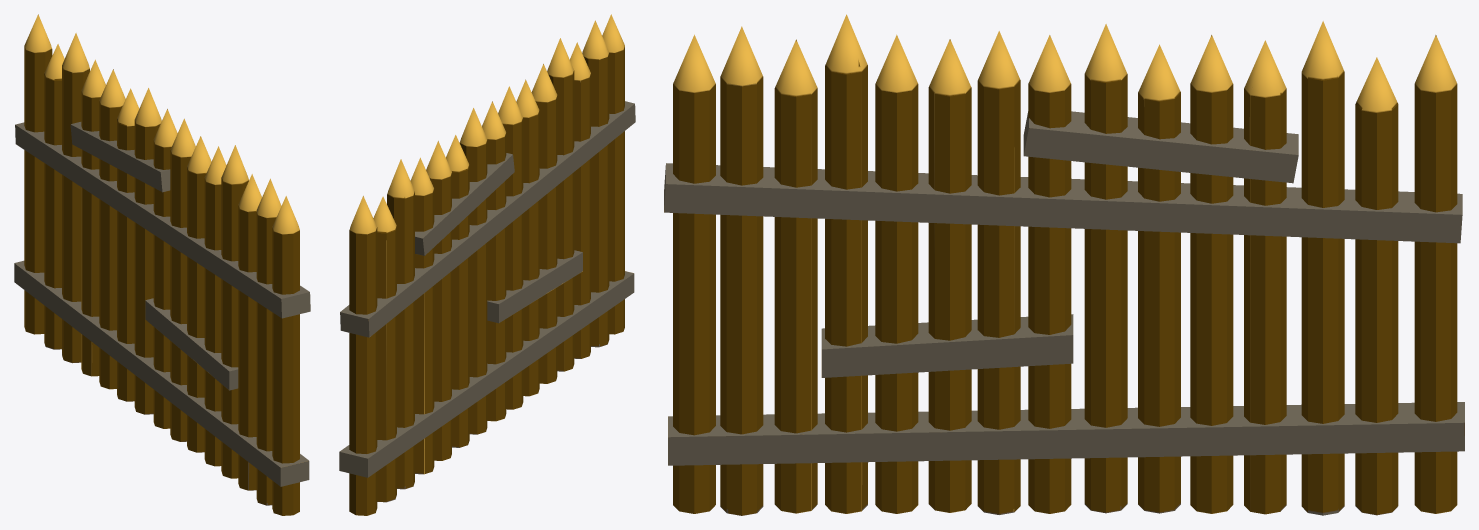
The model's file is Wall_1_Texture.fbx.
3 renders of one model, left to right at view 1: azimuth 30°, elevation 25°; view 2: azimuth 150°, elevation 25°; view 3: azimuth 270°, elevation 25°, orthographic. The views are drawn at different scales.
Visible parts, largest first — view 1: group15_pasted__pCube1; view 2: group15_pasted__pCube1; view 3: group15_pasted__pCube1.
Boxes of the visible parts, left/top/right/bottom form: group15_pasted__pCube1: left=14, top=14, right=310, bottom=515; group15_pasted__pCube1: left=339, top=14, right=635, bottom=515; group15_pasted__pCube1: left=664, top=14, right=1464, bottom=515.
Bounding box in the file's own units: 1.61 × 17.24 × 25.39.
Materials: 1 (1 with a texture image).
